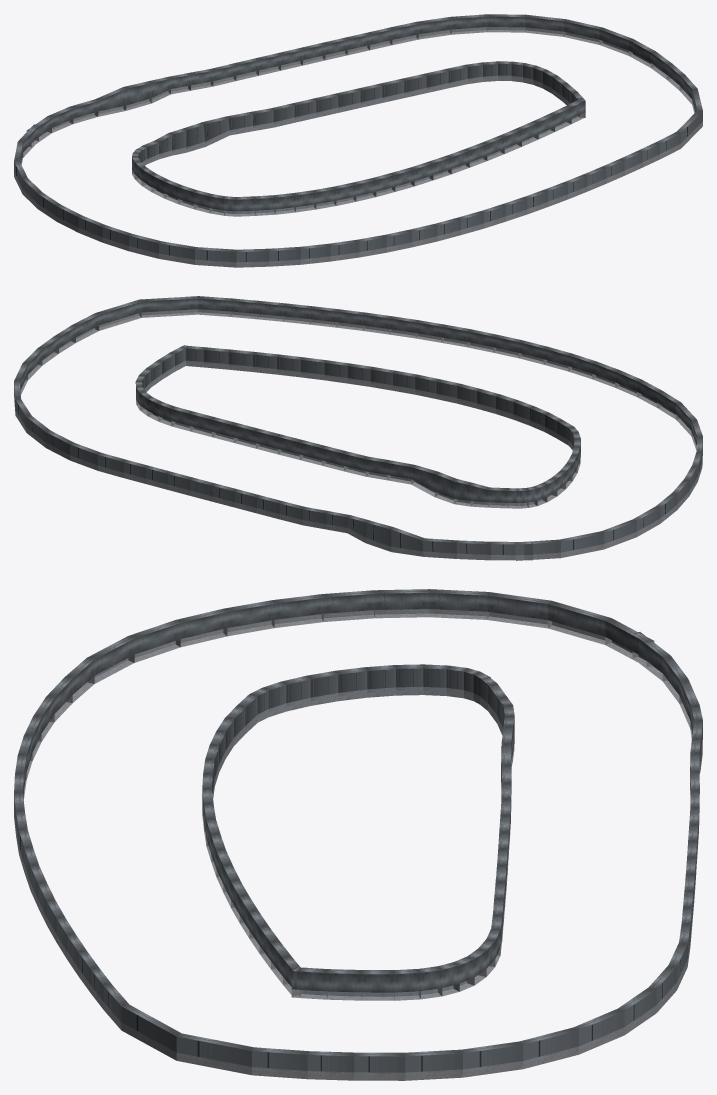
The model's file is track2finalwalls.obj.
The picture shows the model from 3 angles, top to bottom: view 1: azimuth 30°, elevation 25°; view 2: azimuth 150°, elevation 25°; view 3: azimuth 270°, elevation 25°; orthographic projection. The views are drawn at different scales.
Visible parts, largest first — view 1: Cube_Cube.001; view 2: Cube_Cube.001; view 3: Cube_Cube.001.
Boxes of the visible parts, x1,y1,x2,y2 form: Cube_Cube.001: (14,14,702,267); Cube_Cube.001: (14,296,702,560); Cube_Cube.001: (14,589,702,1080).
Bounding box in the file's own units: 282 × 12.01 × 176.
